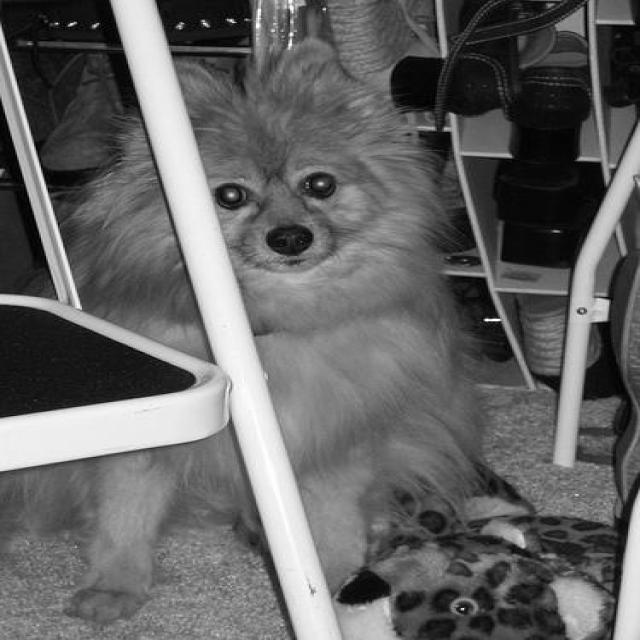sitting: (6, 35, 486, 624)
